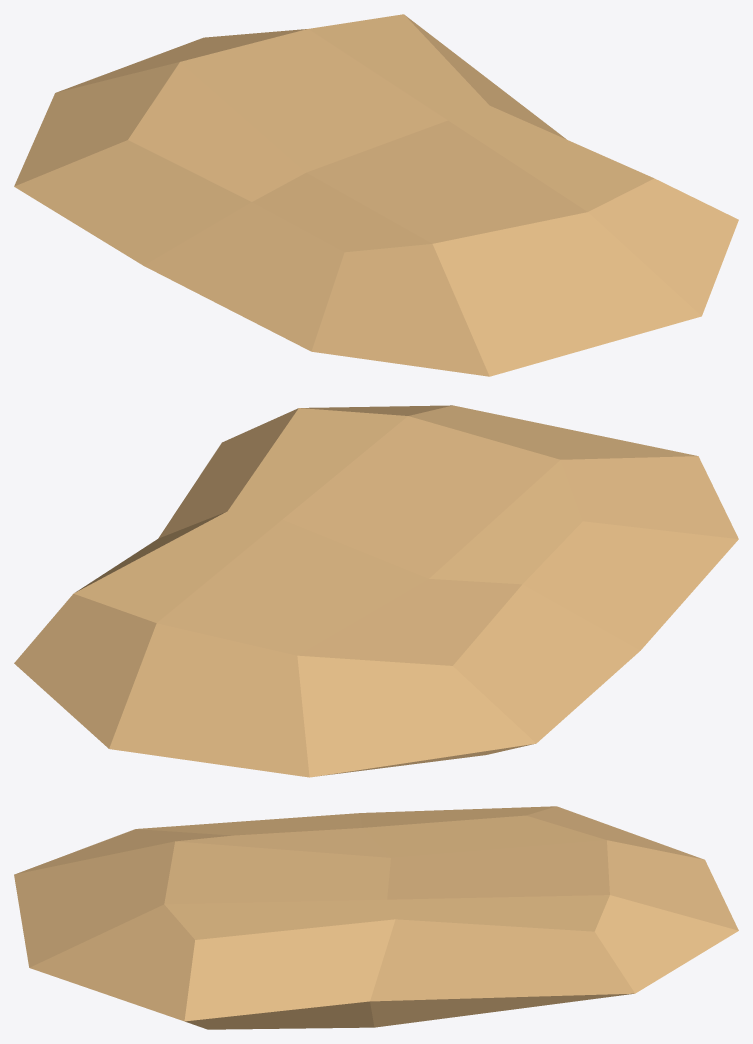
Rendered from Stone_04_Var_04.fbx.
3 renders of one model, top to bottom at view 1: azimuth 30°, elevation 25°; view 2: azimuth 150°, elevation 25°; view 3: azimuth 270°, elevation 25°, orthographic. The views are drawn at different scales.
Visible parts, largest first — view 1: Stone_04_Var_04; view 2: Stone_04_Var_04; view 3: Stone_04_Var_04.
Boxes of the visible parts, x1=… form: Stone_04_Var_04: x1=14, y1=14, x2=738, y2=376; Stone_04_Var_04: x1=14, y1=405, x2=738, y2=777; Stone_04_Var_04: x1=14, y1=806, x2=738, y2=1029.
Bounding box in the file's own units: 6.9 × 1.02 × 4.85.
